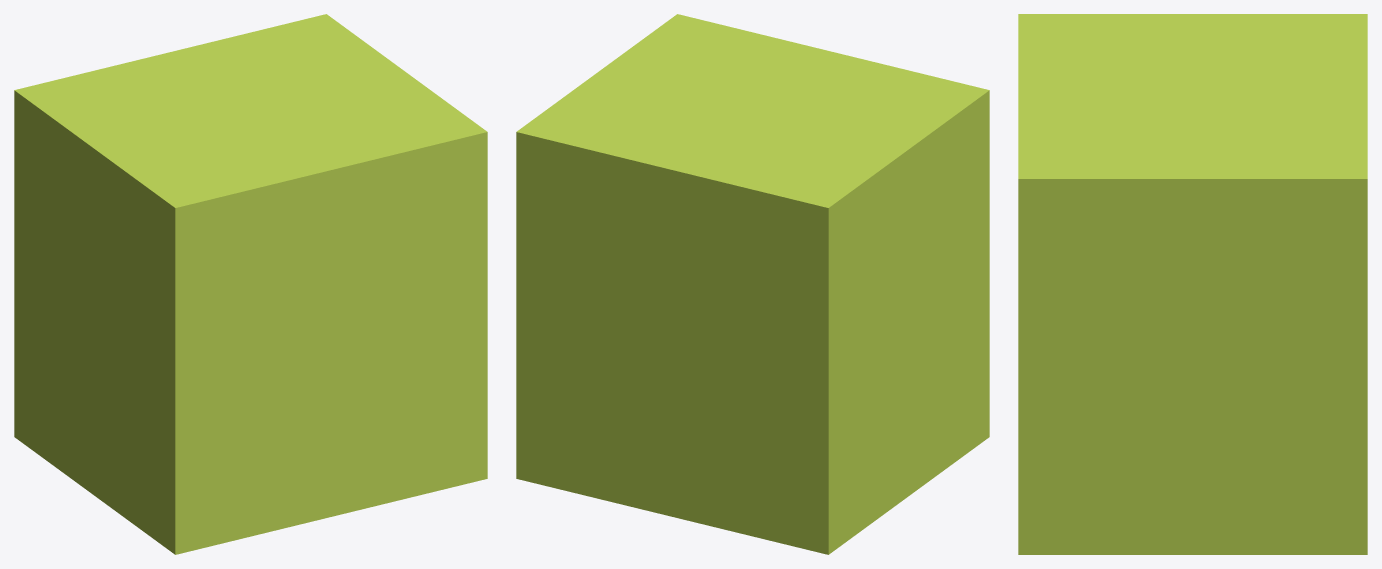
The model's file is deserttree.DAE.
3 renders of one model, left to right at view 1: azimuth 30°, elevation 25°; view 2: azimuth 150°, elevation 25°; view 3: azimuth 270°, elevation 25°, orthographic. The views are drawn at different scales.
Parts seen in each view (by area): view 1: bounds; view 2: bounds; view 3: bounds.
Part boxes in pixels (x1=…): bounds: x1=14, y1=14, x2=487, y2=554; bounds: x1=516, y1=14, x2=989, y2=554; bounds: x1=1018, y1=14, x2=1367, y2=554.
Bounding box in the file's own units: 5.97 × 5.34 × 6.44.
